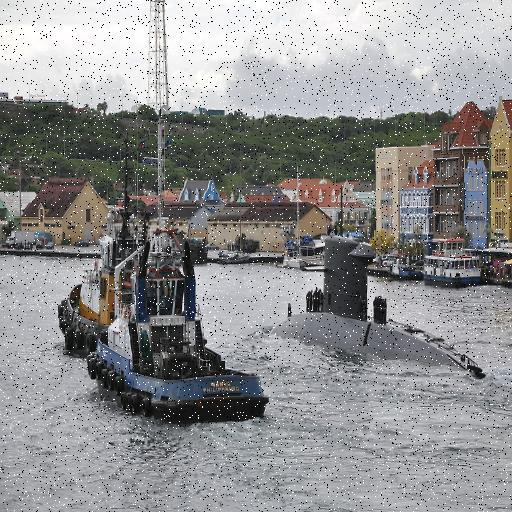submarine: (271, 216, 507, 391)
